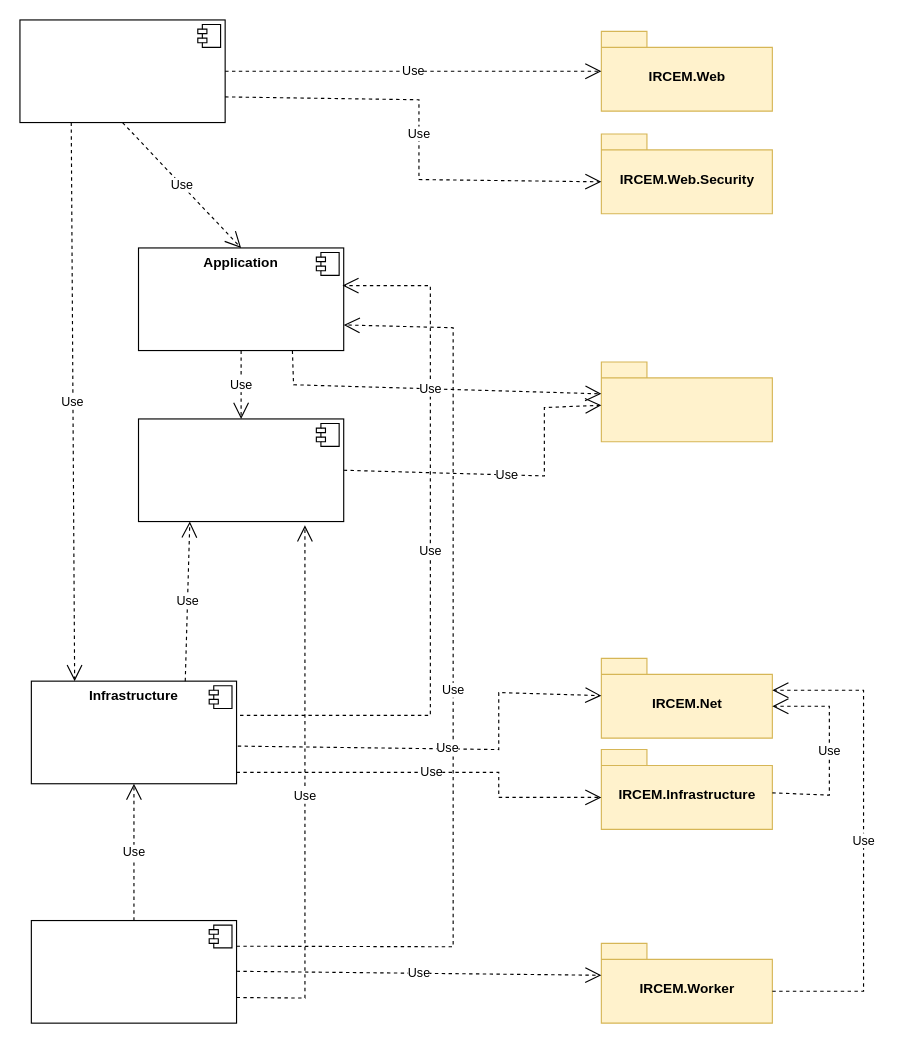
The diagram is 899 pixels wide and 1043 high, and some of its shapes have lost their labels. The shapes that lost their labels are listed below. From the top down, each one's centre as x and y in pixels, then its label:
At [122,71]: "Api".
At [686,401]: "IRCEM.DDD".
At [240,470]: "Domaine".
At [133,971]: "Worker".
